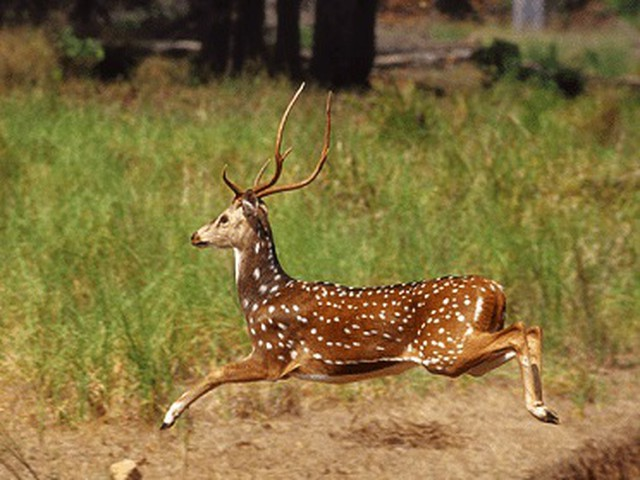deer: (156, 77, 568, 433)
